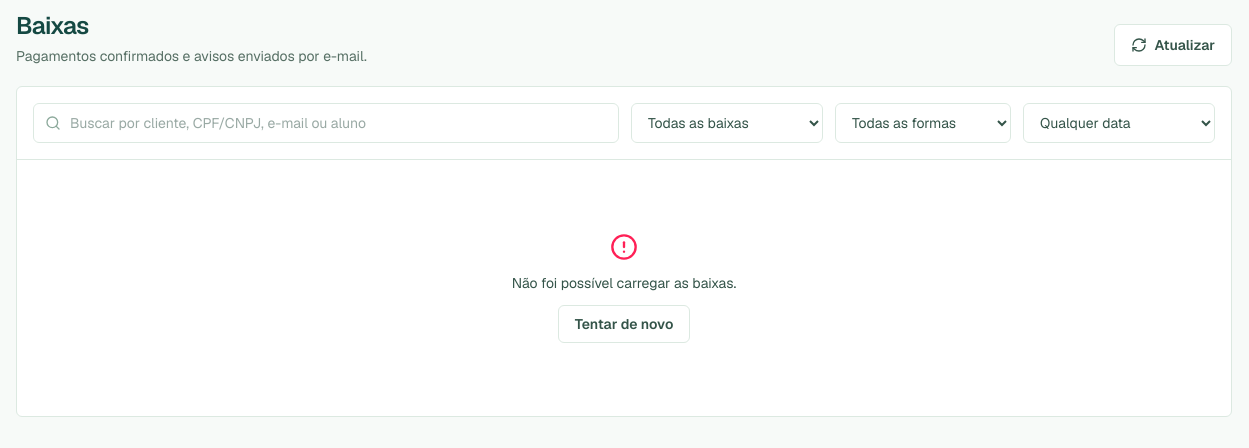
Scenario: BaixasPage › tells a failure apart from an empty list
The image size is (1249, 448).
expect the text "Não foi possível carregar as baixas." is shown: met, box [512,273,736,293]
Click the button "Tentar de novo".
click(624, 324)  # box [558,305,690,343]
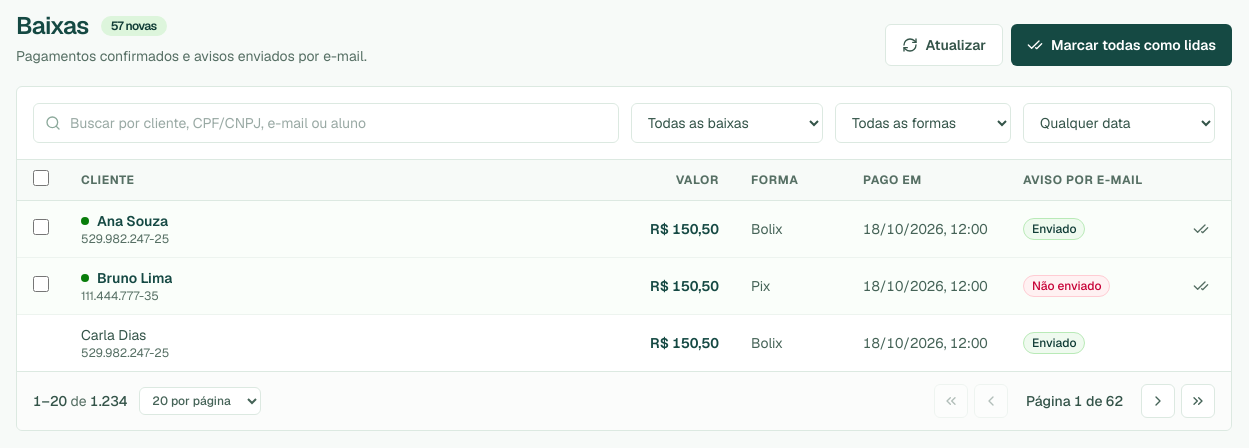
expect the table is shown: met, box [17,160,1231,371]
